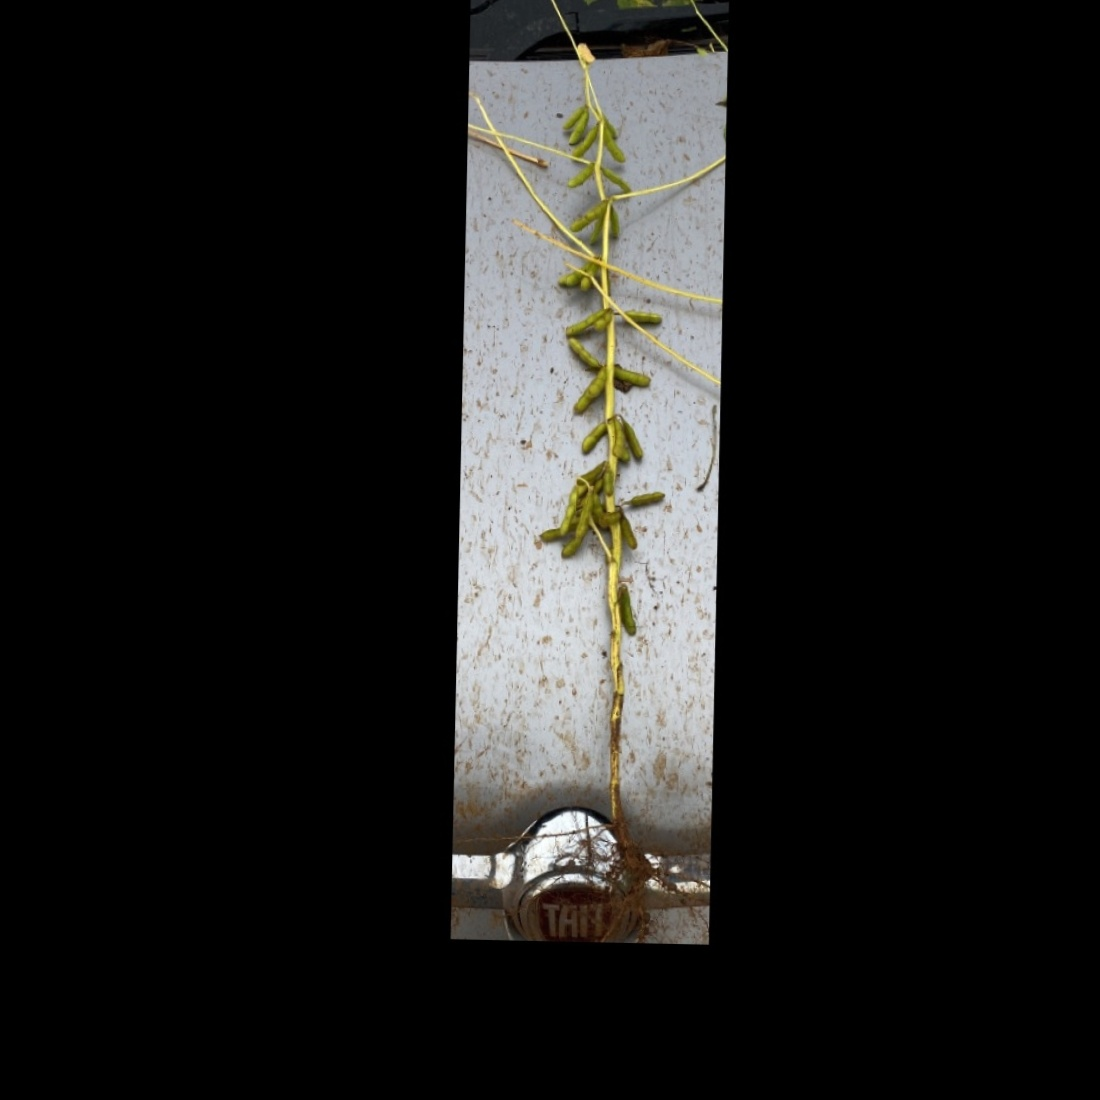pod: (599, 126, 634, 168), (576, 418, 607, 460), (565, 338, 606, 370), (616, 584, 640, 637), (565, 157, 596, 194), (613, 363, 658, 389), (598, 166, 634, 195), (625, 489, 669, 510), (616, 308, 665, 325), (622, 516, 639, 551), (607, 205, 620, 243)
soy: (517, 88, 698, 908)
